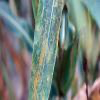Corn rust leaf: (29, 0, 64, 99)
